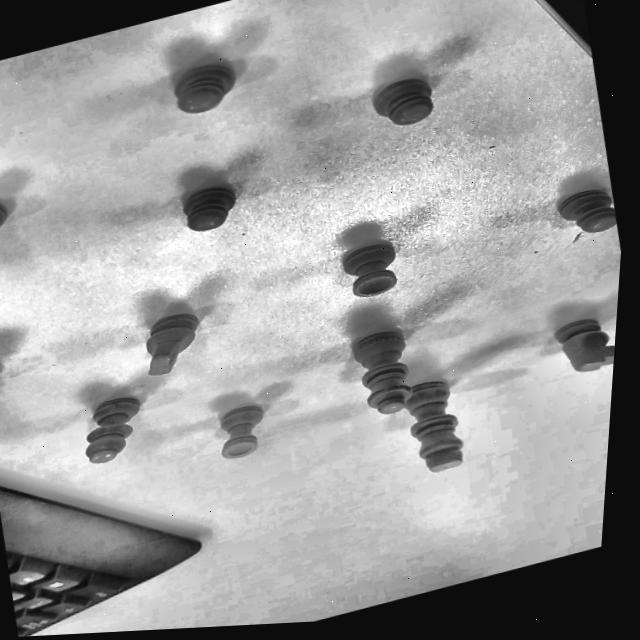white-bishop: (67, 386, 154, 480)
white-king: (383, 368, 484, 485)
white-knight: (119, 294, 210, 392), (525, 301, 618, 388)
white-pawn: (146, 42, 258, 132), (348, 59, 452, 137), (538, 165, 624, 259), (166, 167, 263, 246), (0, 191, 20, 268)
white-queen: (335, 317, 427, 422)
white-rook: (322, 224, 420, 312), (193, 392, 272, 470)
